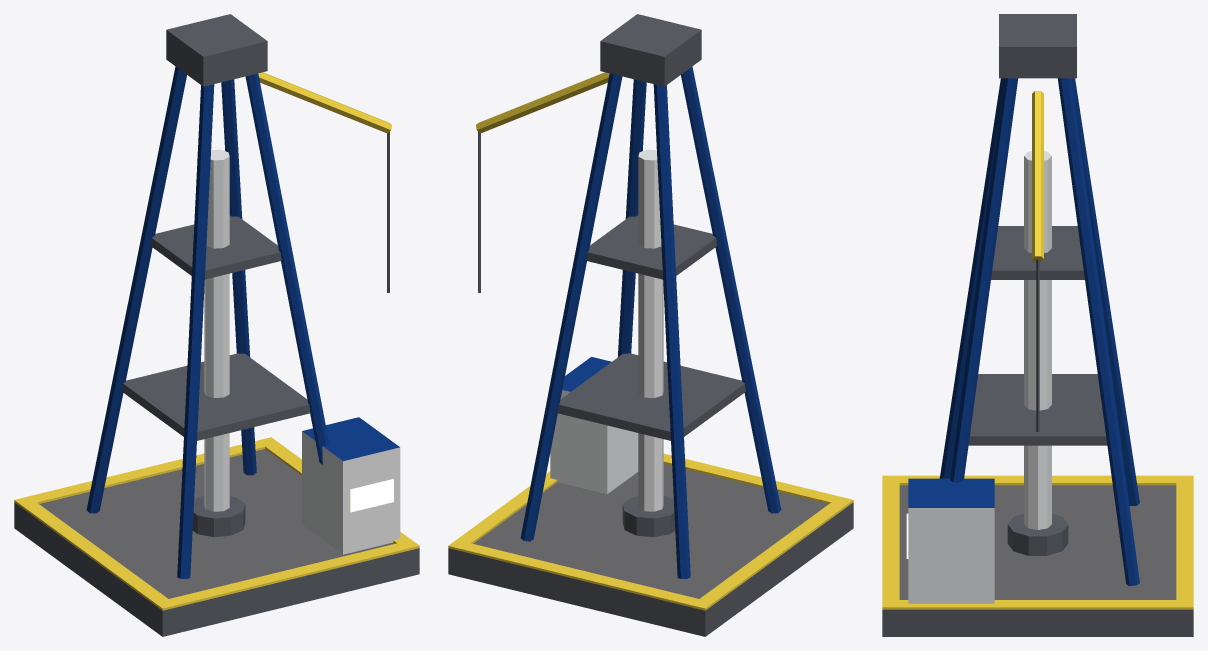
File: sonda.glb
3 views of the same model, side by side, from view 1: azimuth 30°, elevation 25°; view 2: azimuth 150°, elevation 25°; view 3: azimuth 270°, elevation 25° (orthographic). The views are drawn at different scales.
Parts seen in each view (by area): view 1: KIT_Sonda_Perfuracao; view 2: KIT_Sonda_Perfuracao; view 3: KIT_Sonda_Perfuracao.
Part boxes in pixels (left/top/right/bottom): KIT_Sonda_Perfuracao: left=14, top=14, right=419, bottom=636; KIT_Sonda_Perfuracao: left=448, top=14, right=853, bottom=636; KIT_Sonda_Perfuracao: left=882, top=14, right=1193, bottom=636.
Size of the model in its own units: 4.23 by 7.1 by 3.6.
